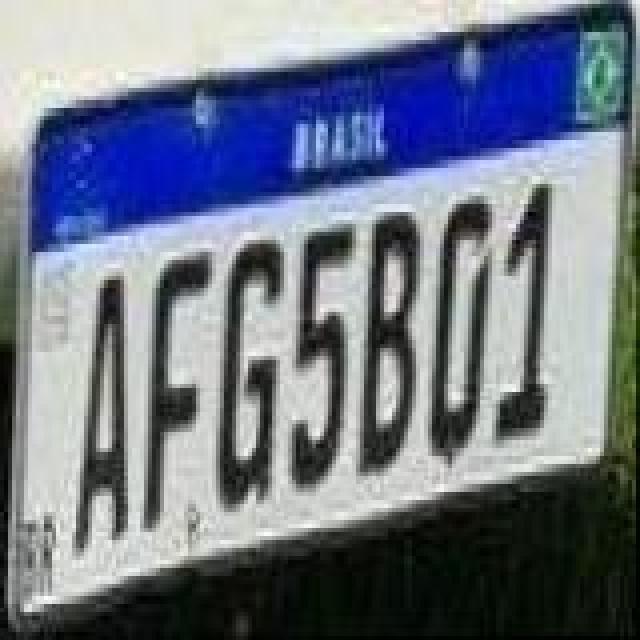1: (496, 180, 556, 452)
5: (290, 218, 362, 498)
A: (72, 264, 132, 552)
B: (358, 206, 422, 478)
D: (428, 190, 496, 462)
F: (148, 246, 216, 534)
G: (220, 234, 288, 514)
